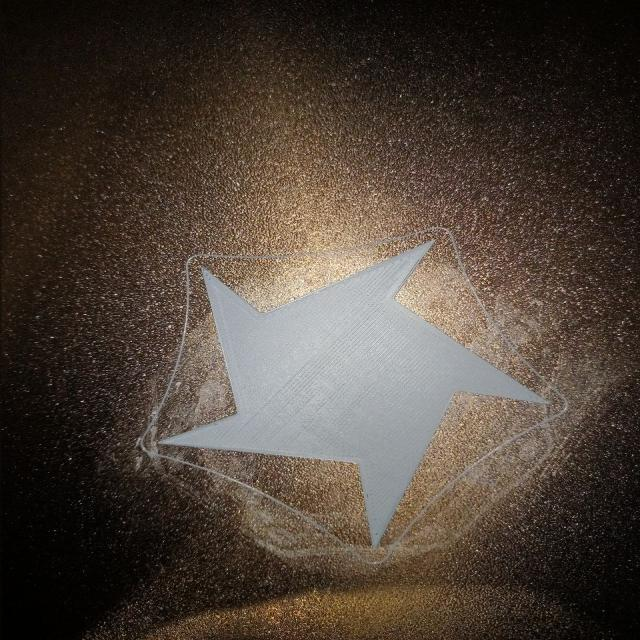Without deffect: (161, 237, 554, 559)
